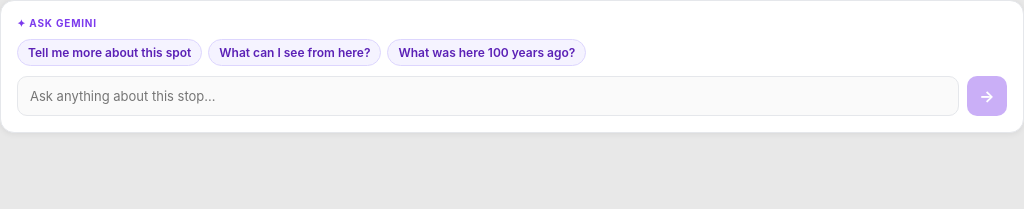
Scenario: AskAI › shows user message in thread after submission
In the field with placeholder "Ask anything about this stop…": [488, 96] box [17, 76, 959, 116], type "What is this?"
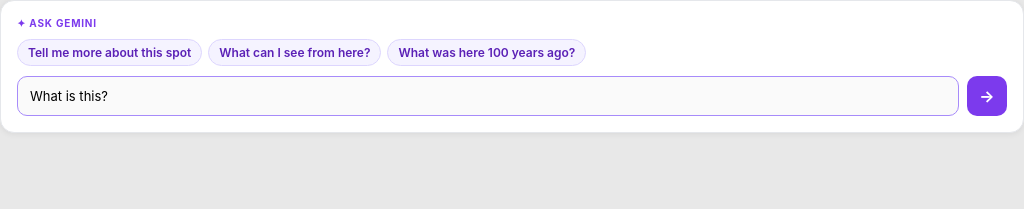
Click the button named "Send question": [987, 96] box [967, 76, 1007, 116]
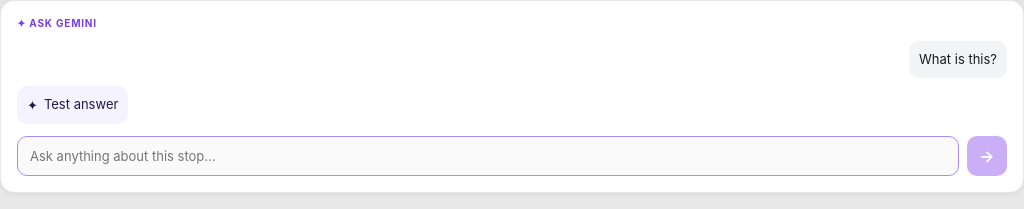
Expected: the text "What is this?" is shown, [919, 49, 997, 70]
